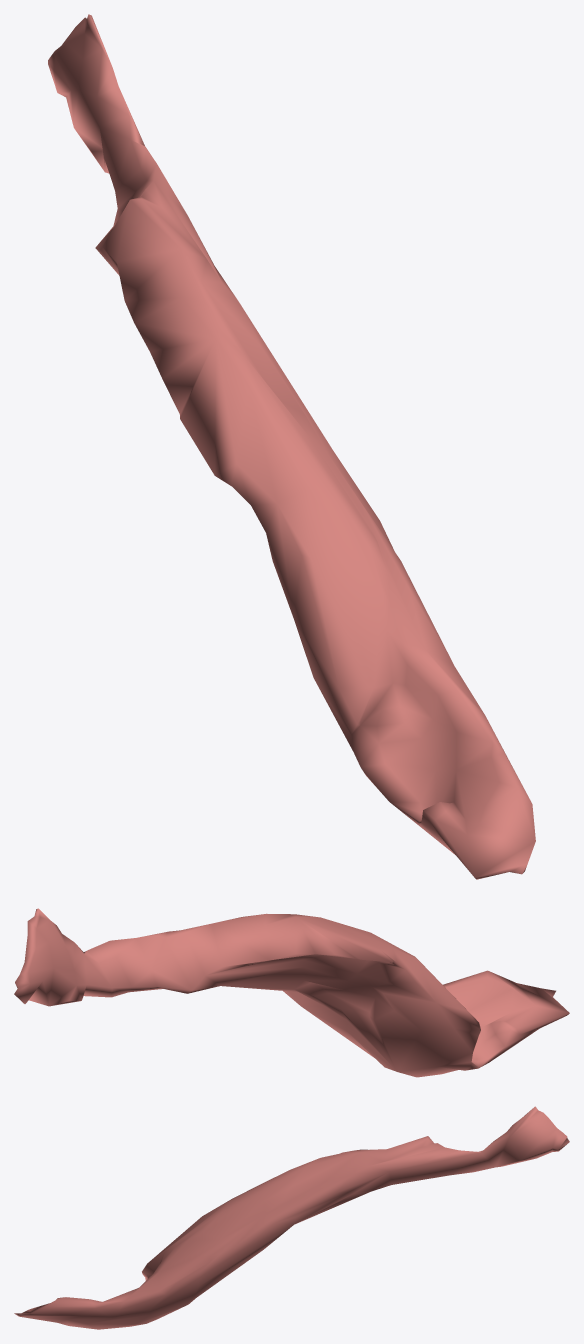
The picture shows the model from 3 angles, top to bottom: view 1: azimuth 30°, elevation 25°; view 2: azimuth 150°, elevation 25°; view 3: azimuth 270°, elevation 25°; orthographic projection. The views are drawn at different scales.
Parts seen in each view (by area): view 1: ZA_b922dbd691287cf0; view 2: ZA_b922dbd691287cf0; view 3: ZA_b922dbd691287cf0.
Part boxes in pixels (x1,y1,x2,y2): ZA_b922dbd691287cf0: (48,14,535,879); ZA_b922dbd691287cf0: (14,908,569,1077); ZA_b922dbd691287cf0: (14,1106,569,1329).
Bounding box in the file's own units: 0.013 × 0.0398 × 0.0833.
